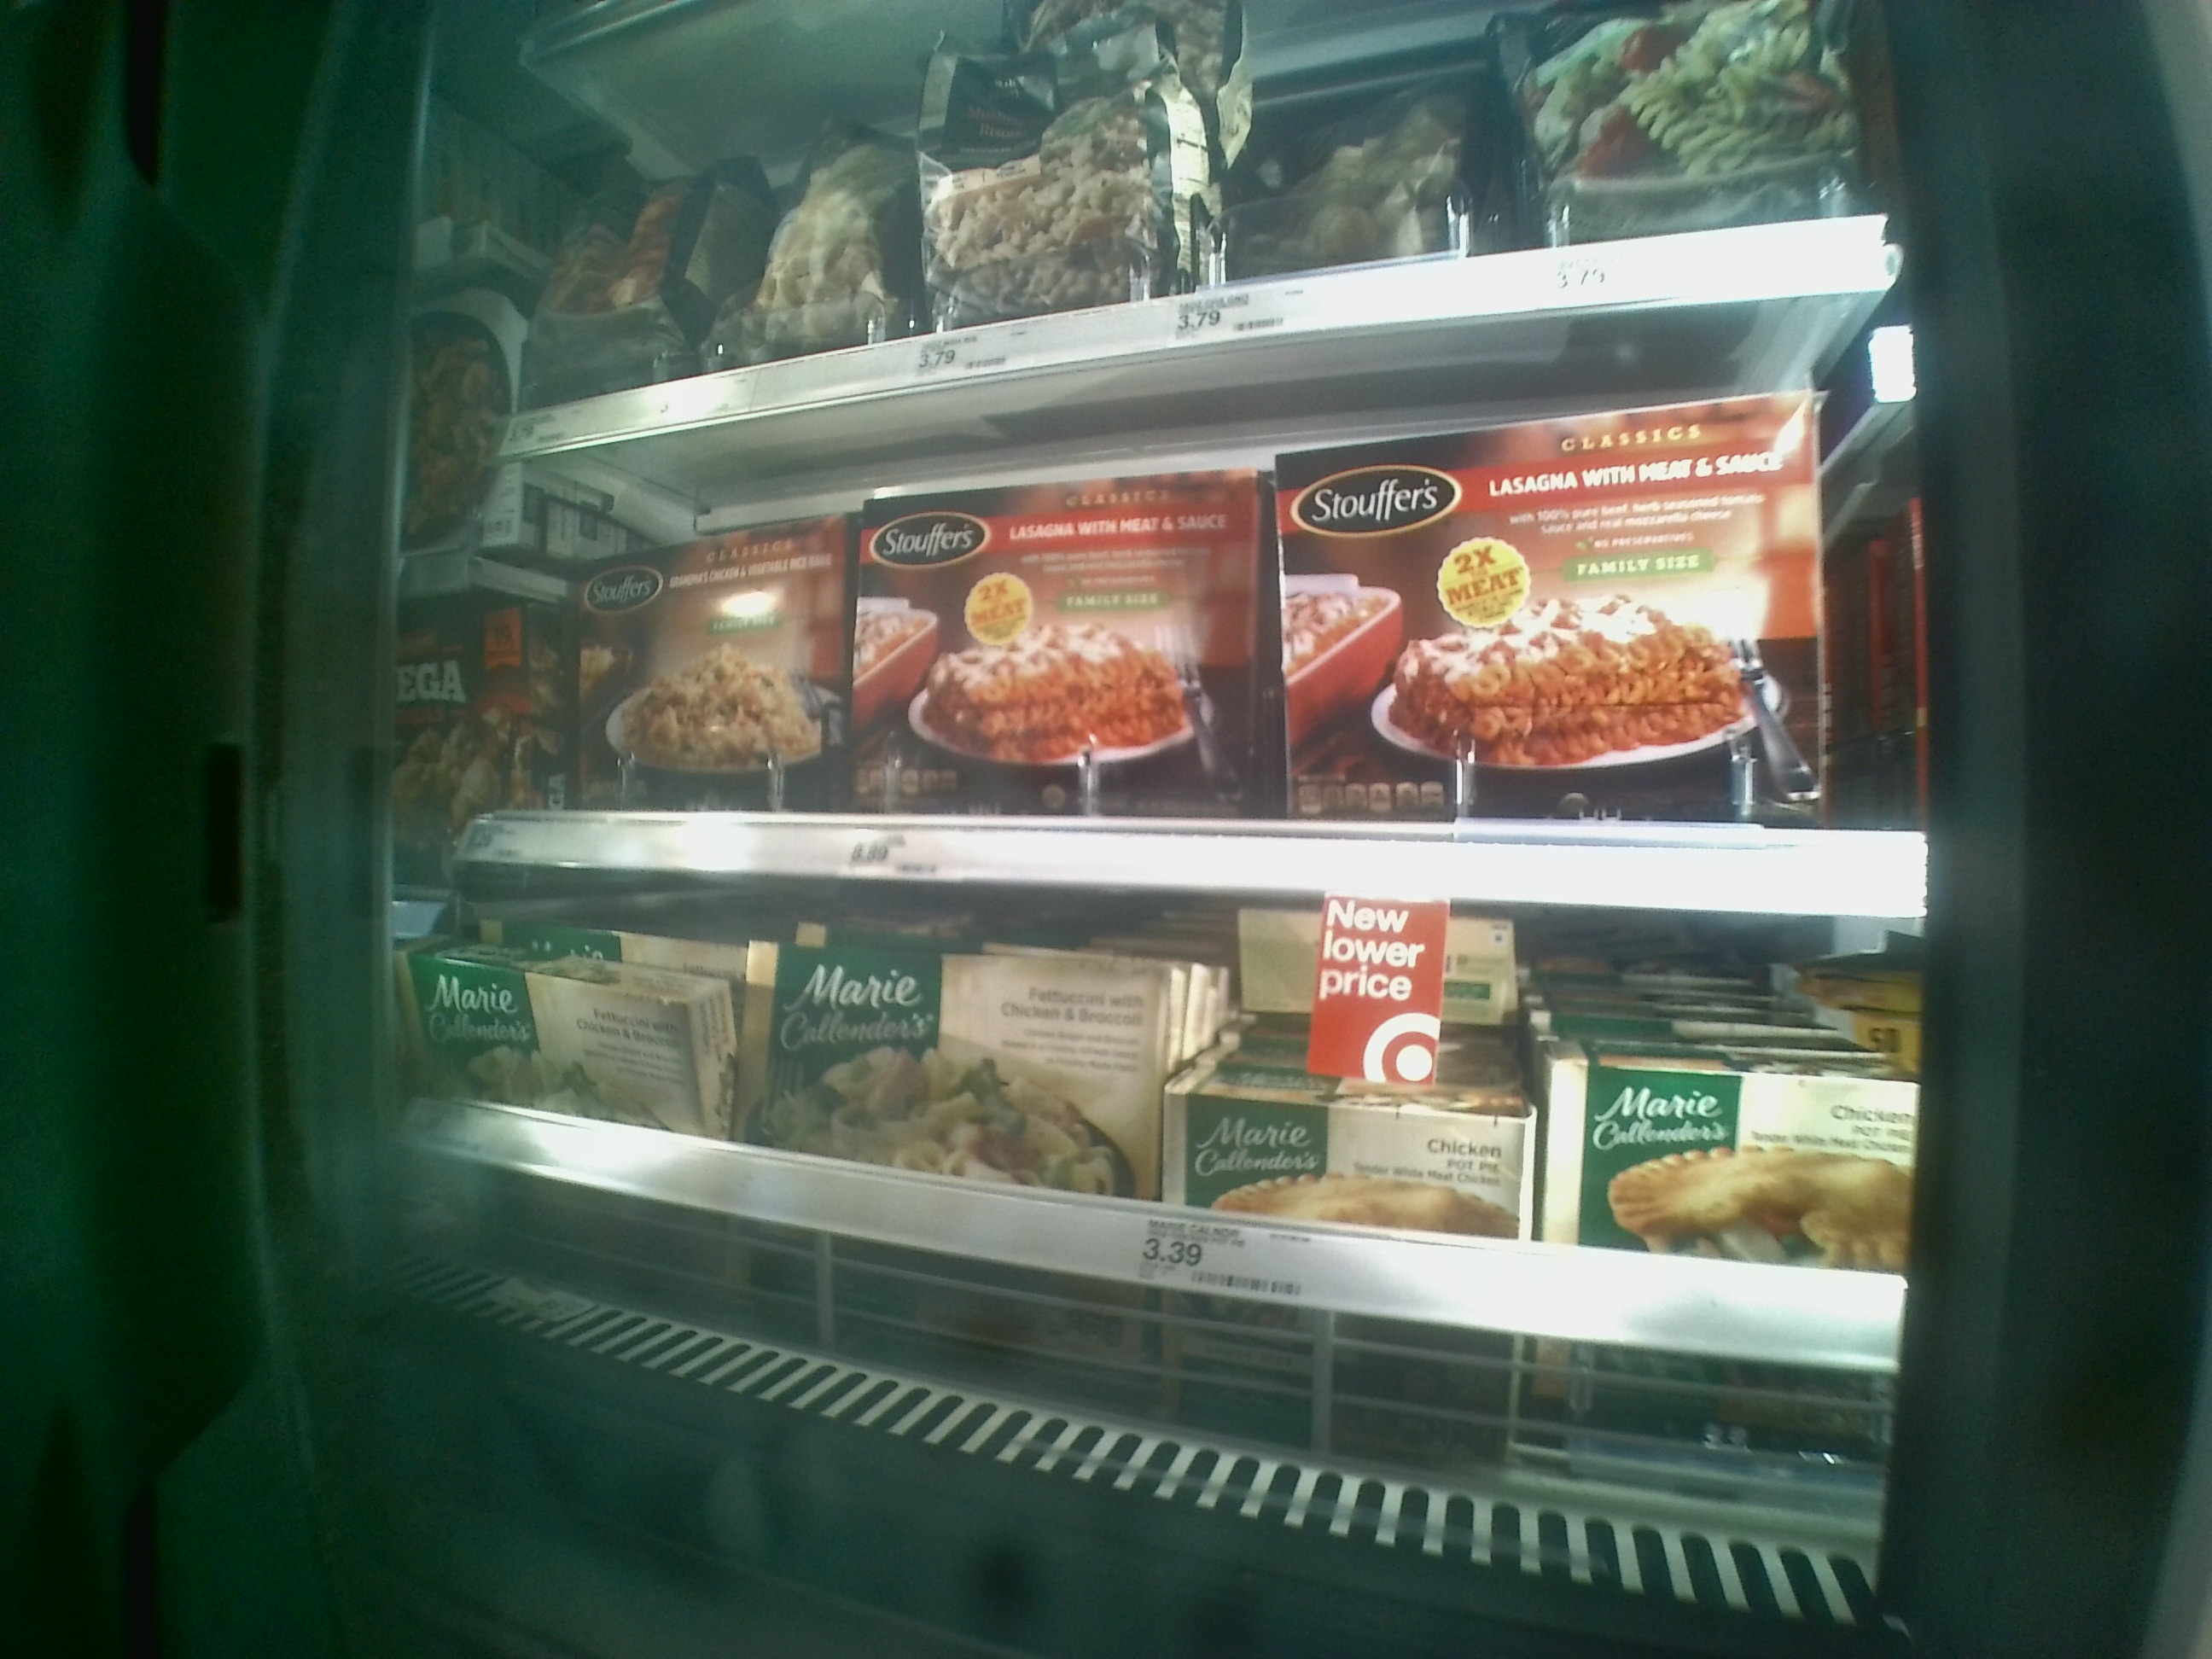shelf: (470, 465, 1923, 913)
